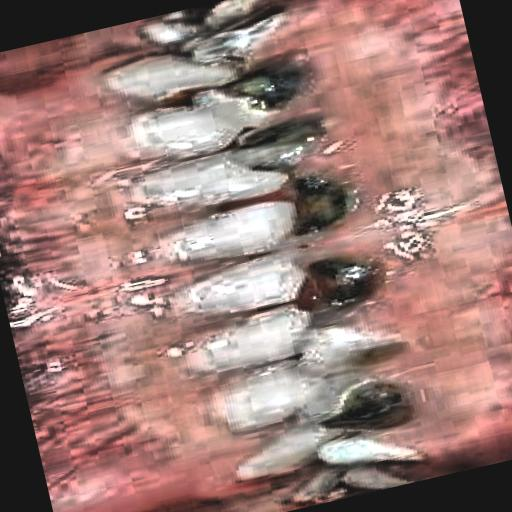Caries: (187, 11, 418, 334), (292, 312, 456, 466)
